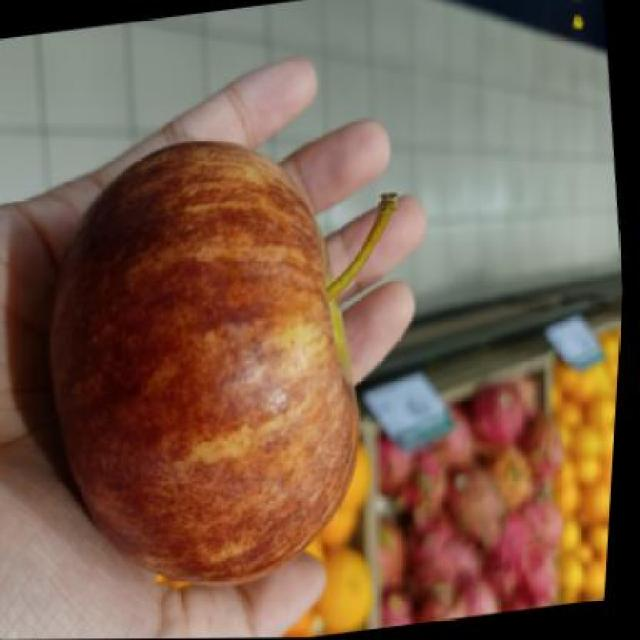Rotten: (42, 148, 376, 574)
